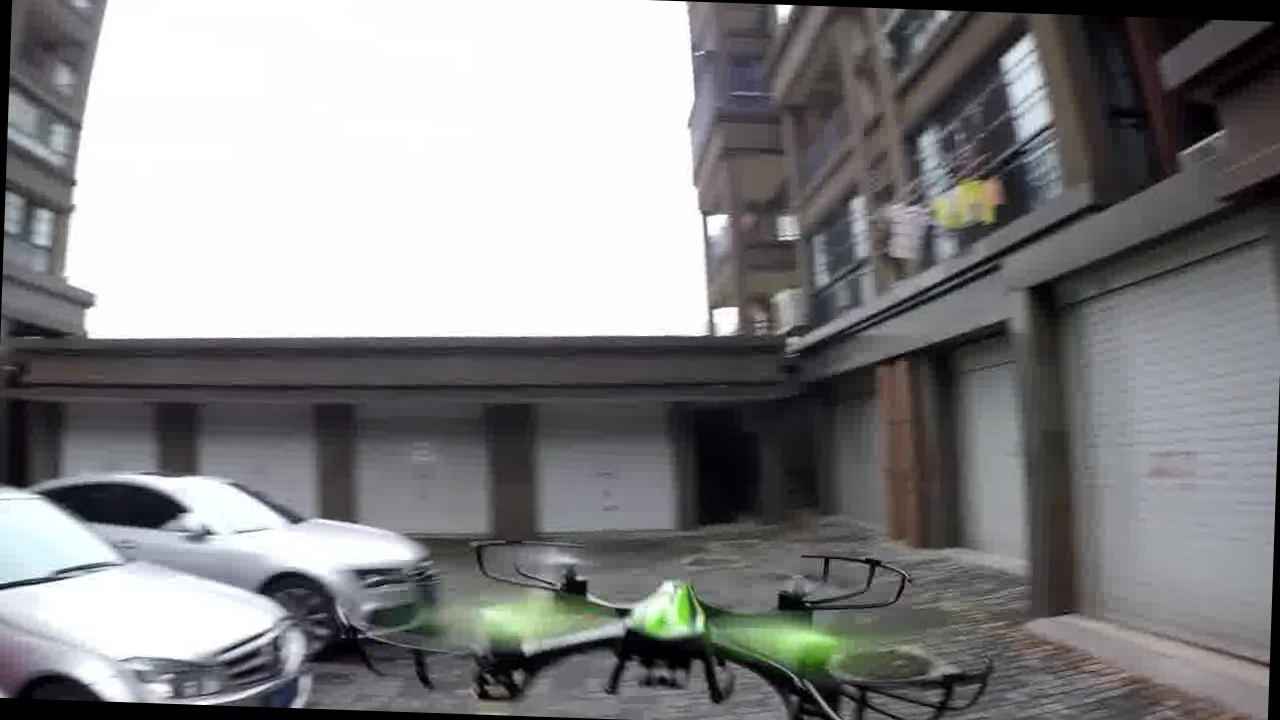drone: (339, 517, 1014, 719)
